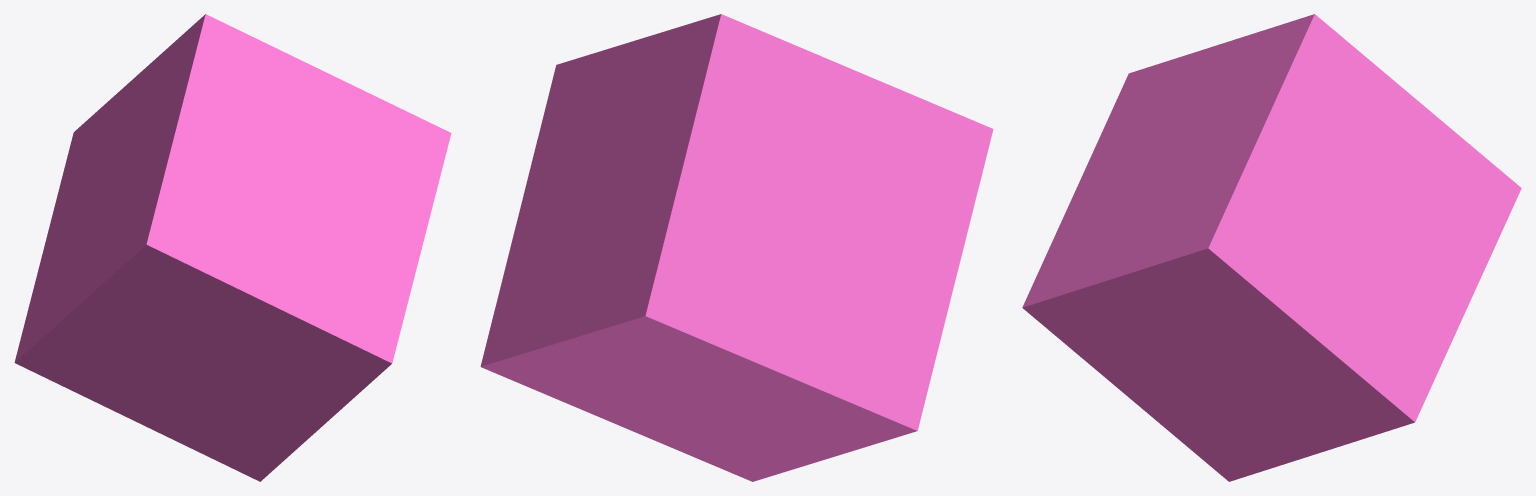
Rendered from InfoExpo_AusenciaDeSujeto.gltf.
3 views of the same model, side by side, from view 1: azimuth 30°, elevation 25°; view 2: azimuth 150°, elevation 25°; view 3: azimuth 270°, elevation 25° (orthographic). The views are drawn at different scales.
Parts seen in each view (by area): view 1: InfoExpo_AusenciaDeSujeto; view 2: InfoExpo_AusenciaDeSujeto; view 3: InfoExpo_AusenciaDeSujeto.
Part boxes in pixels (<box>): InfoExpo_AusenciaDeSujeto: <box>14,14,451,481</box>; InfoExpo_AusenciaDeSujeto: <box>480,14,993,481</box>; InfoExpo_AusenciaDeSujeto: <box>1022,14,1521,481</box>.
Size of the model in its own units: 0.3265 by 0.3661 by 0.3595.
